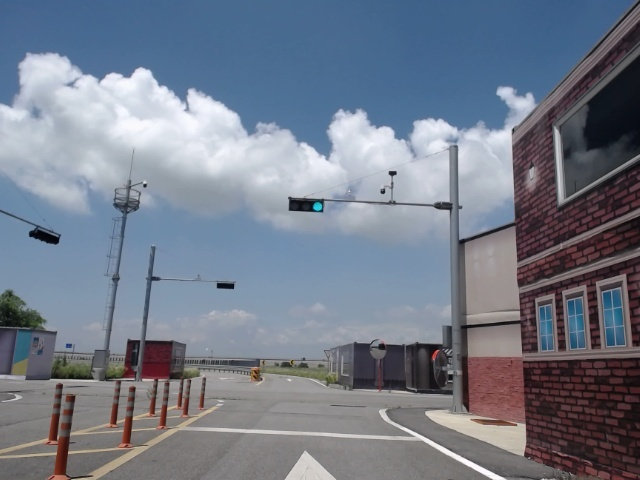green_3: (286, 197, 329, 214)
